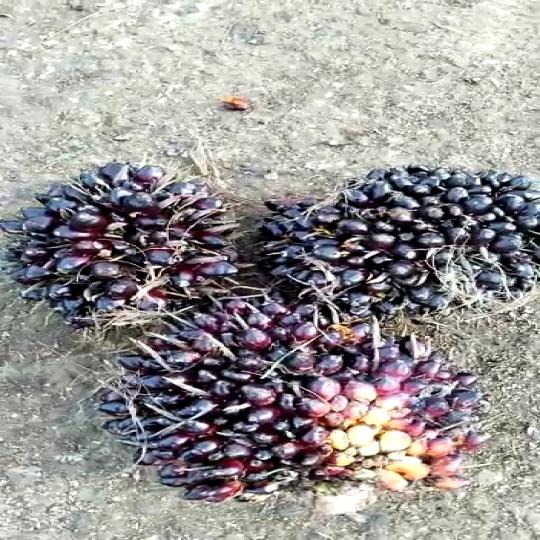mentah: (96, 291, 498, 540), (266, 152, 540, 357), (0, 138, 262, 306)
